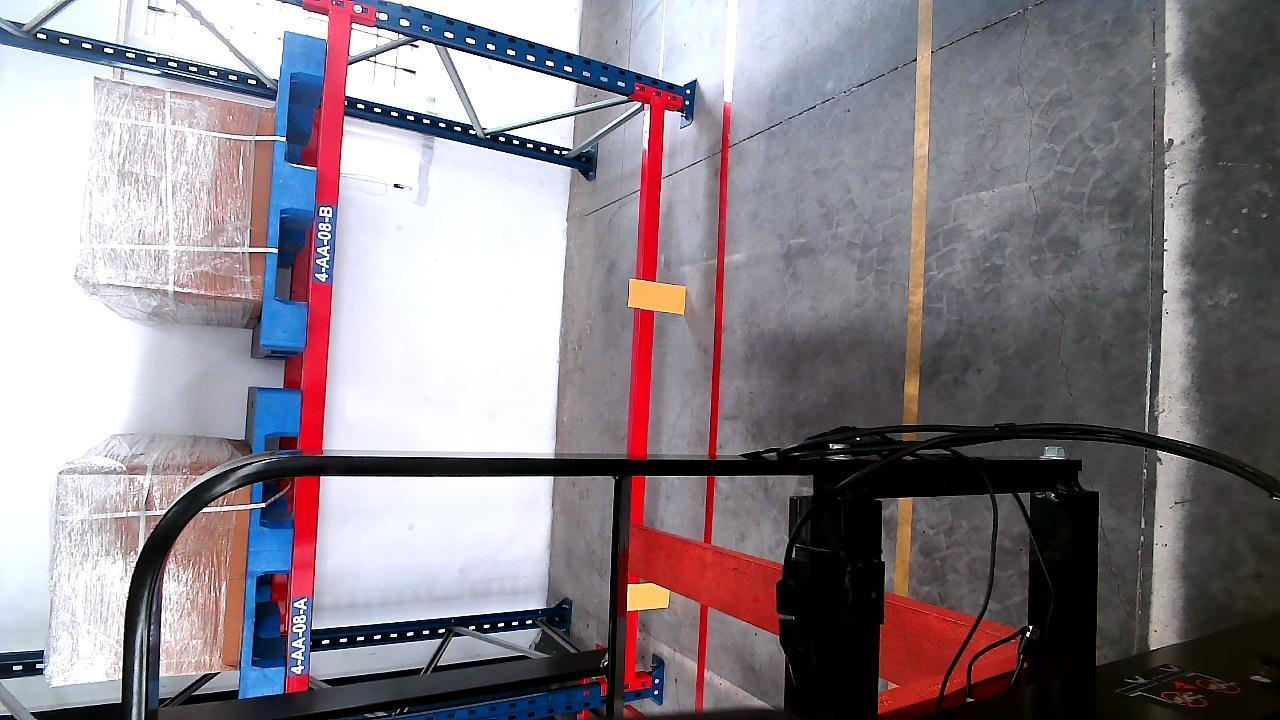h_rack: (293, 14, 346, 676), (624, 105, 664, 681)
orange_strip: (632, 280, 685, 312), (624, 583, 672, 612)
red_line: (692, 98, 735, 706)
small_pallet: (264, 29, 323, 351), (238, 390, 296, 695)
yellow_line: (904, 0, 934, 435)
